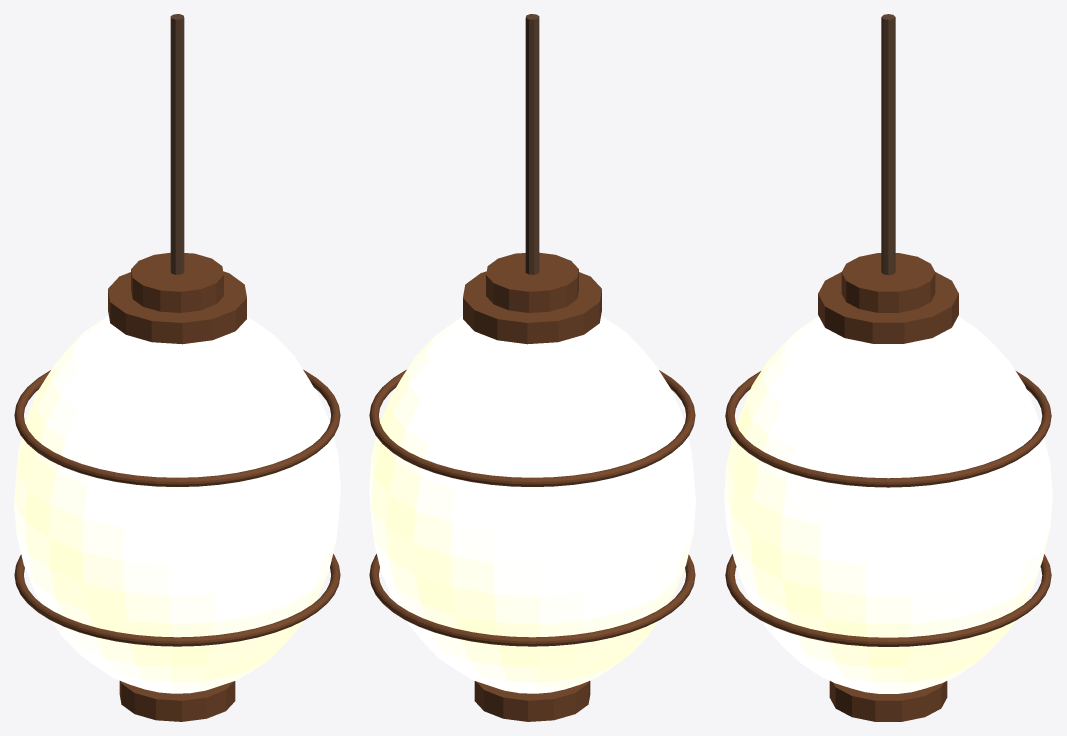
File: chochin.glb
3 renders of one model, left to right at view 1: azimuth 30°, elevation 25°; view 2: azimuth 150°, elevation 25°; view 3: azimuth 270°, elevation 25°, orthographic.
Parts seen in each view (by area): view 1: chochin; view 2: chochin; view 3: chochin.
Part boxes in pixels (bbox=[...]): chochin: bbox=[14, 14, 340, 721]; chochin: bbox=[369, 14, 695, 721]; chochin: bbox=[724, 14, 1052, 721].
Size of the model in its own units: 0.556 by 1.28 by 0.56.
